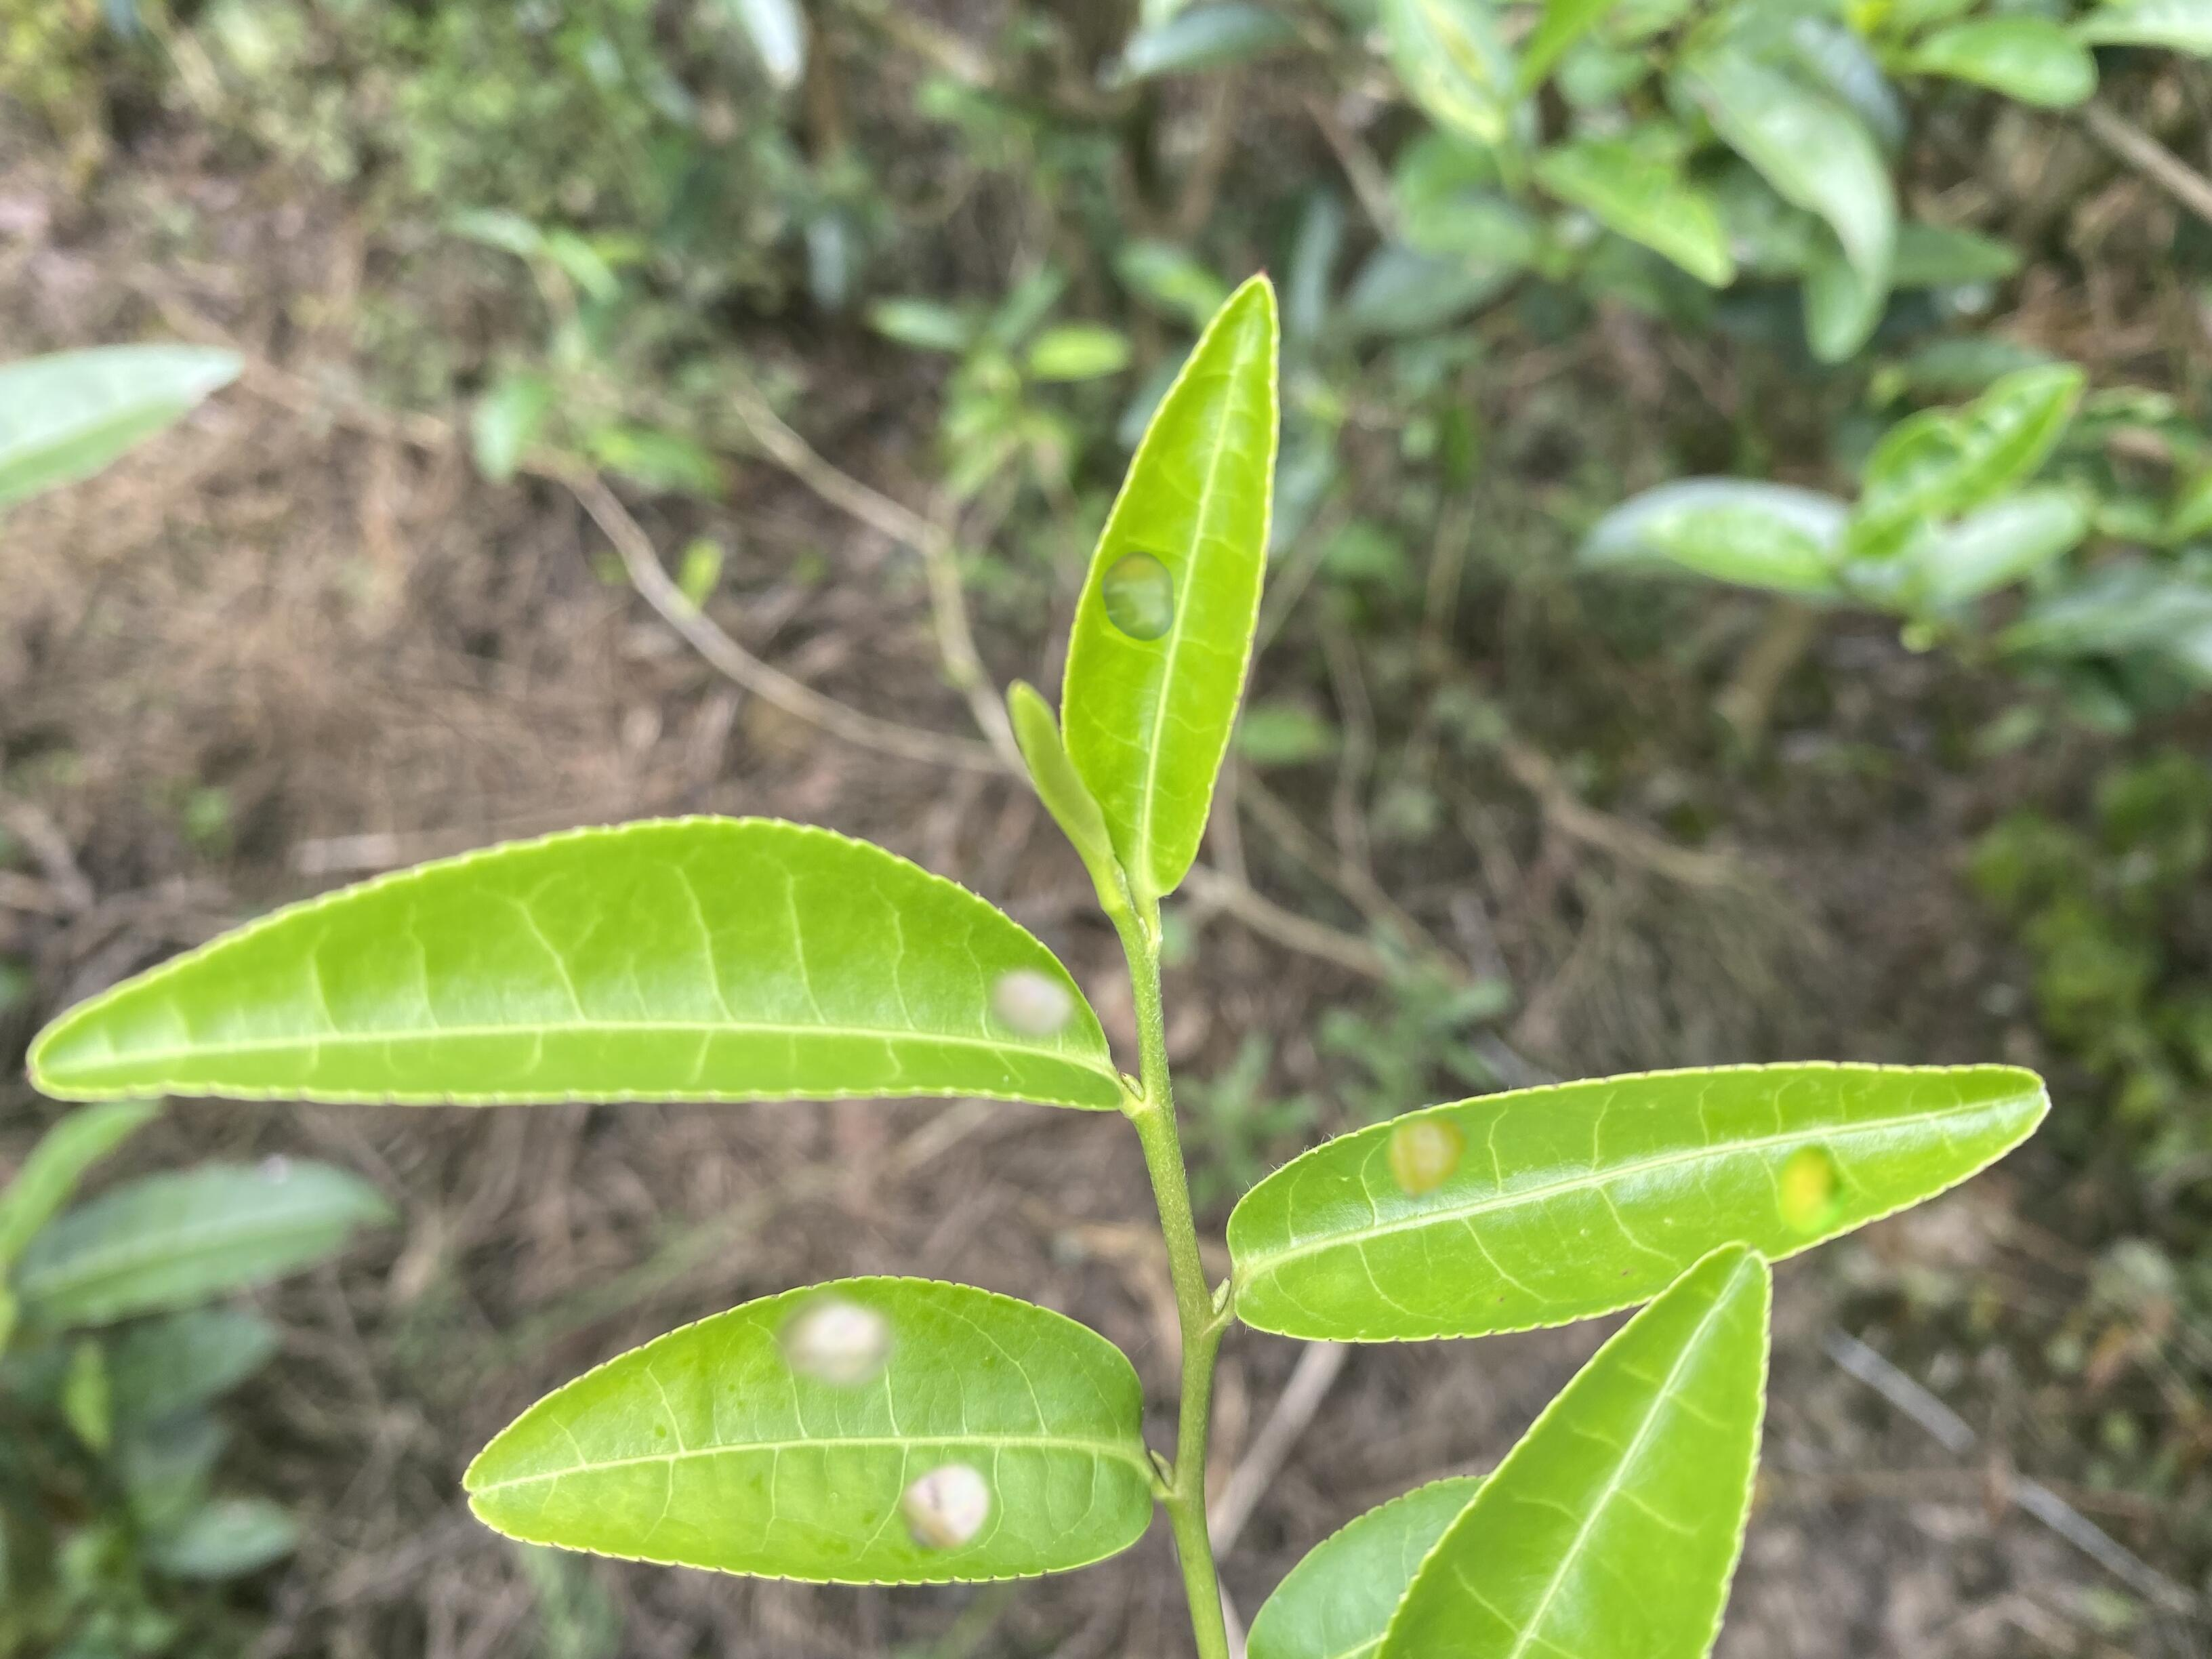chabing_high: (1224, 1056, 2050, 1345), (458, 1272, 1163, 1588)
chabing_low: (23, 812, 1120, 1157), (1061, 268, 1280, 904)
healthy: (1372, 1243, 1775, 1656)
